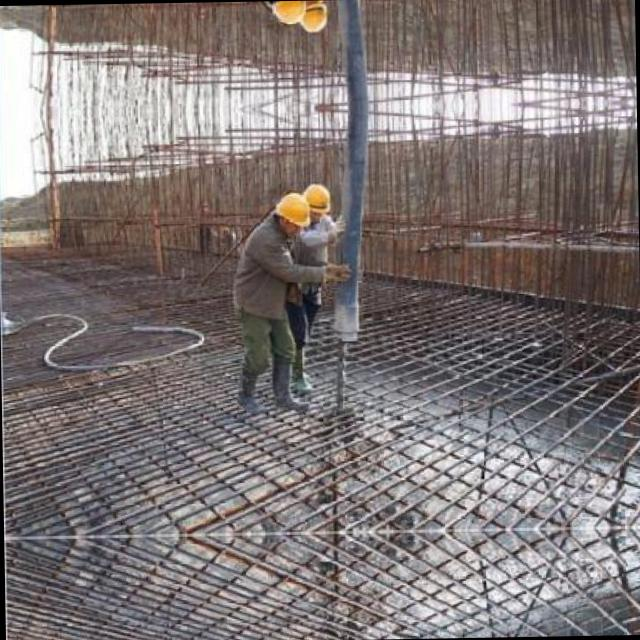helmet: (294, 178, 332, 222), (273, 188, 311, 228), (290, 0, 330, 35), (270, 0, 308, 27)
